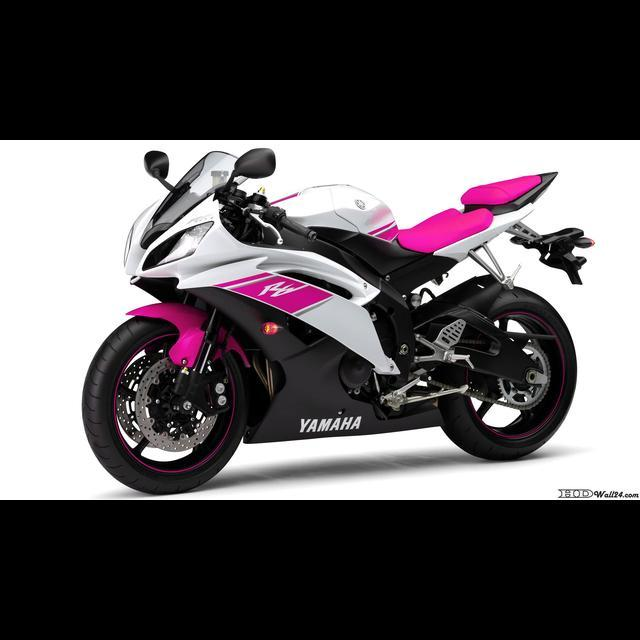motorcycle: (75, 143, 599, 499)
